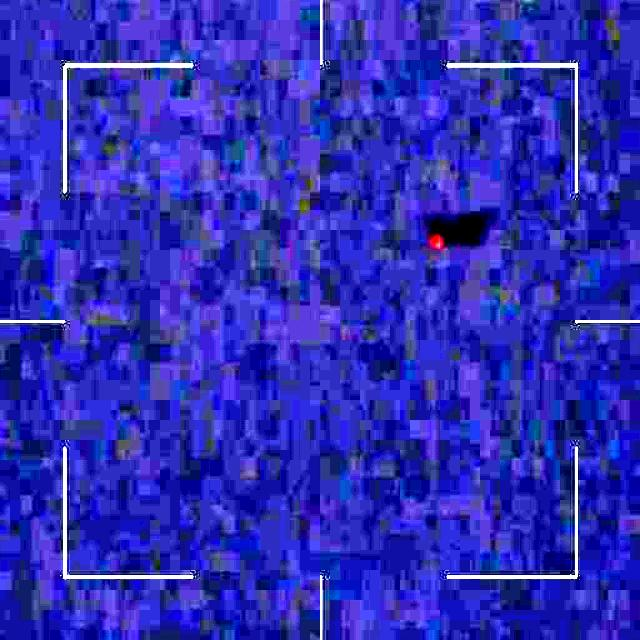bird: (421, 220, 450, 260)
